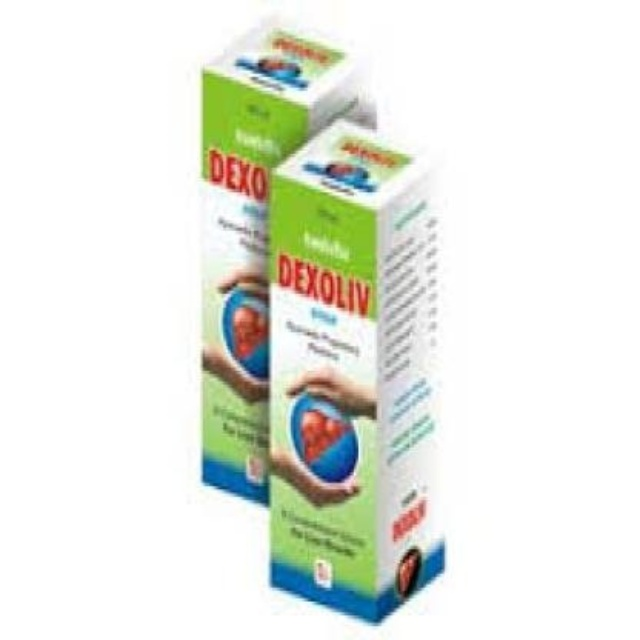trash: (269, 120, 443, 620), (202, 28, 355, 502)
